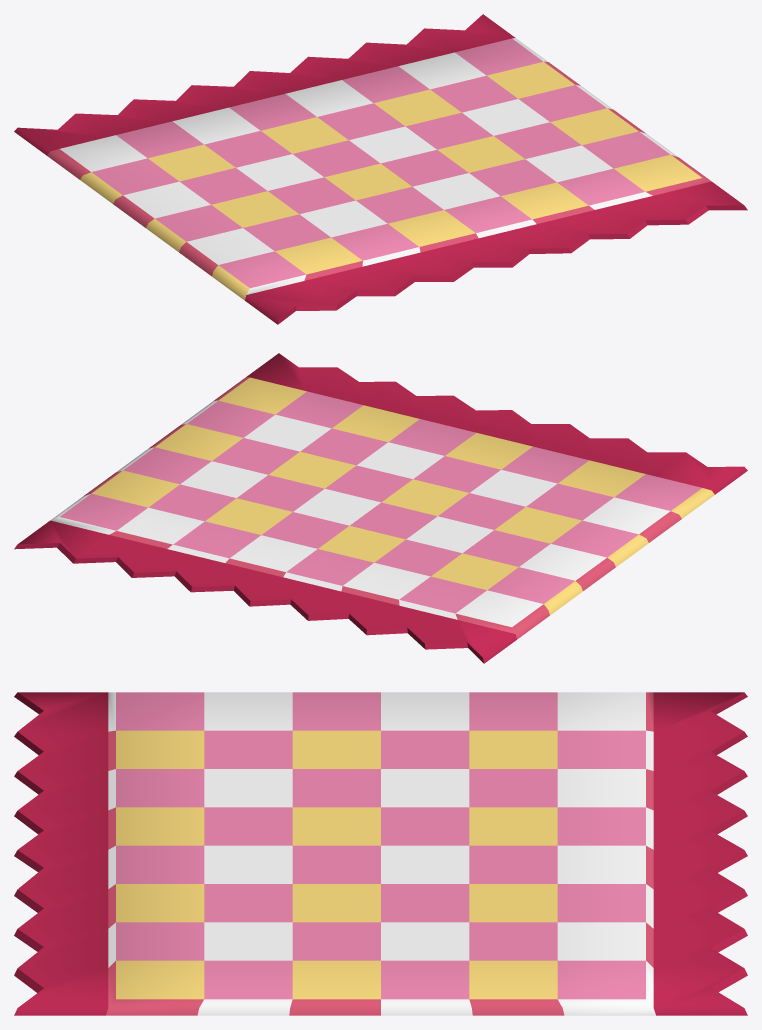
The model's file is Dotjari1-2.fbx.
The picture shows the model from 3 angles, top to bottom: view 1: azimuth 30°, elevation 25°; view 2: azimuth 150°, elevation 25°; view 3: azimuth 270°, elevation 25°; orthographic projection. The views are drawn at different scales.
Visible parts, largest first — view 1: Dotjari1-2; view 2: Dotjari1-2; view 3: Dotjari1-2.
Part boxes in pixels (left/top/right/bottom): Dotjari1-2: left=14, top=14, right=747, bottom=324; Dotjari1-2: left=14, top=353, right=747, bottom=663; Dotjari1-2: left=14, top=692, right=747, bottom=1015.
Bounding box in the file's own units: 1.18 × 0.0182 × 1.15.
